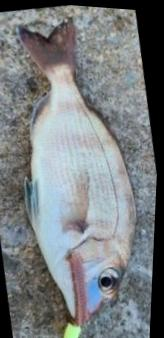fish: (19, 19, 138, 338)
